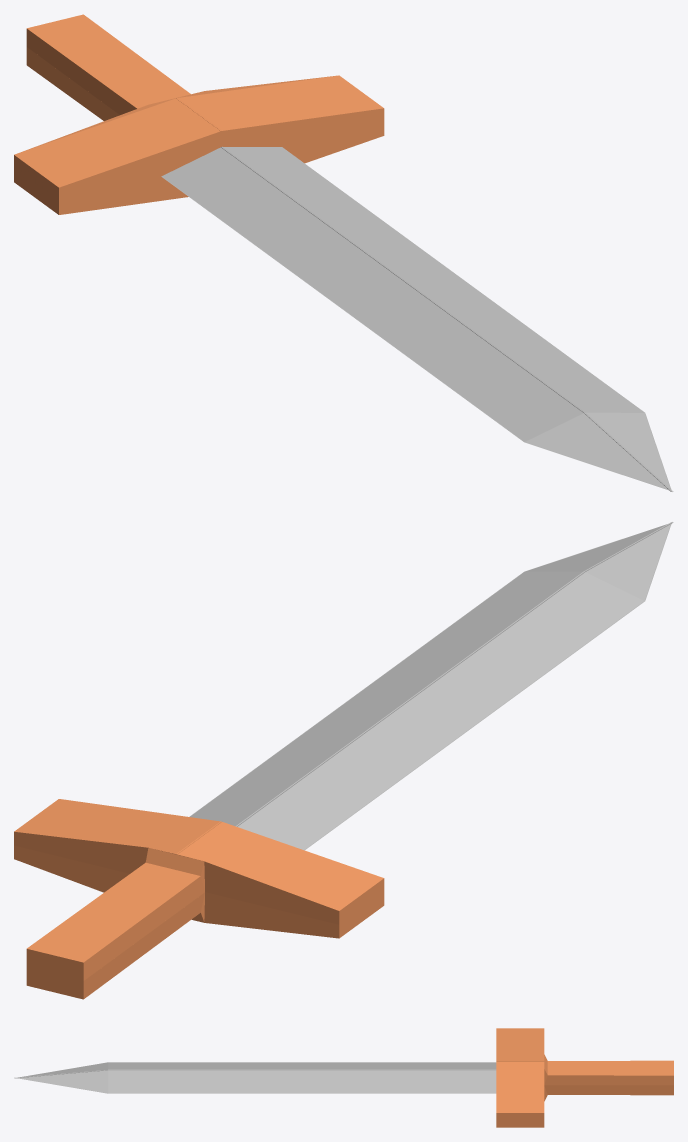
File: sword (1).fbx
The picture shows the model from 3 angles, top to bottom: view 1: azimuth 30°, elevation 25°; view 2: azimuth 150°, elevation 25°; view 3: azimuth 270°, elevation 25°; orthographic projection. The views are drawn at different scales.
Visible parts, largest first — view 1: Cube; view 2: Cube; view 3: Cube.
Boxes of the visible parts, x1=… form: Cube: x1=14, y1=14, x2=673, y2=491; Cube: x1=14, y1=522, x2=673, y2=999; Cube: x1=14, y1=1028, x2=673, y2=1127.
Bounding box in the file's own units: 295 × 53.28 × 970.
